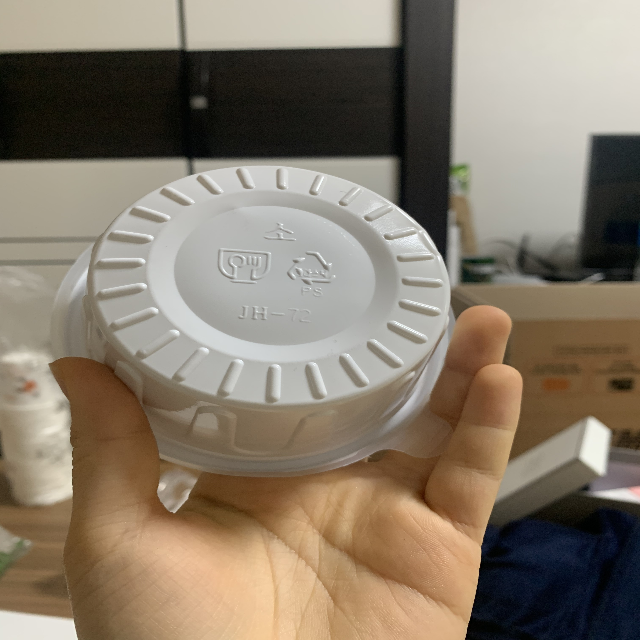ps: (284, 247, 341, 300)
